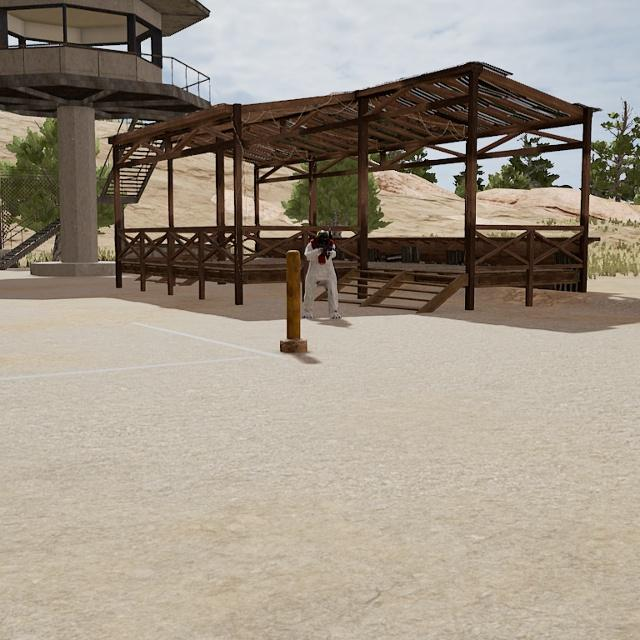head: (314, 228, 333, 249)
people: (302, 228, 344, 322)
